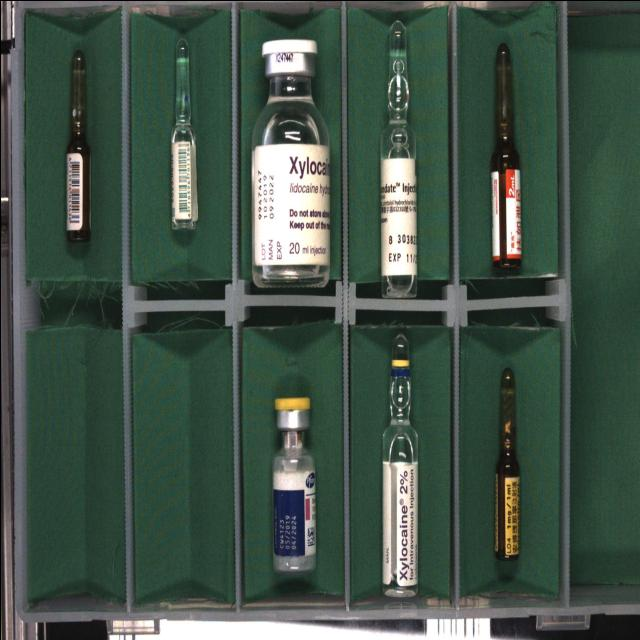Vials: (251, 38, 329, 287), (271, 396, 314, 572)
